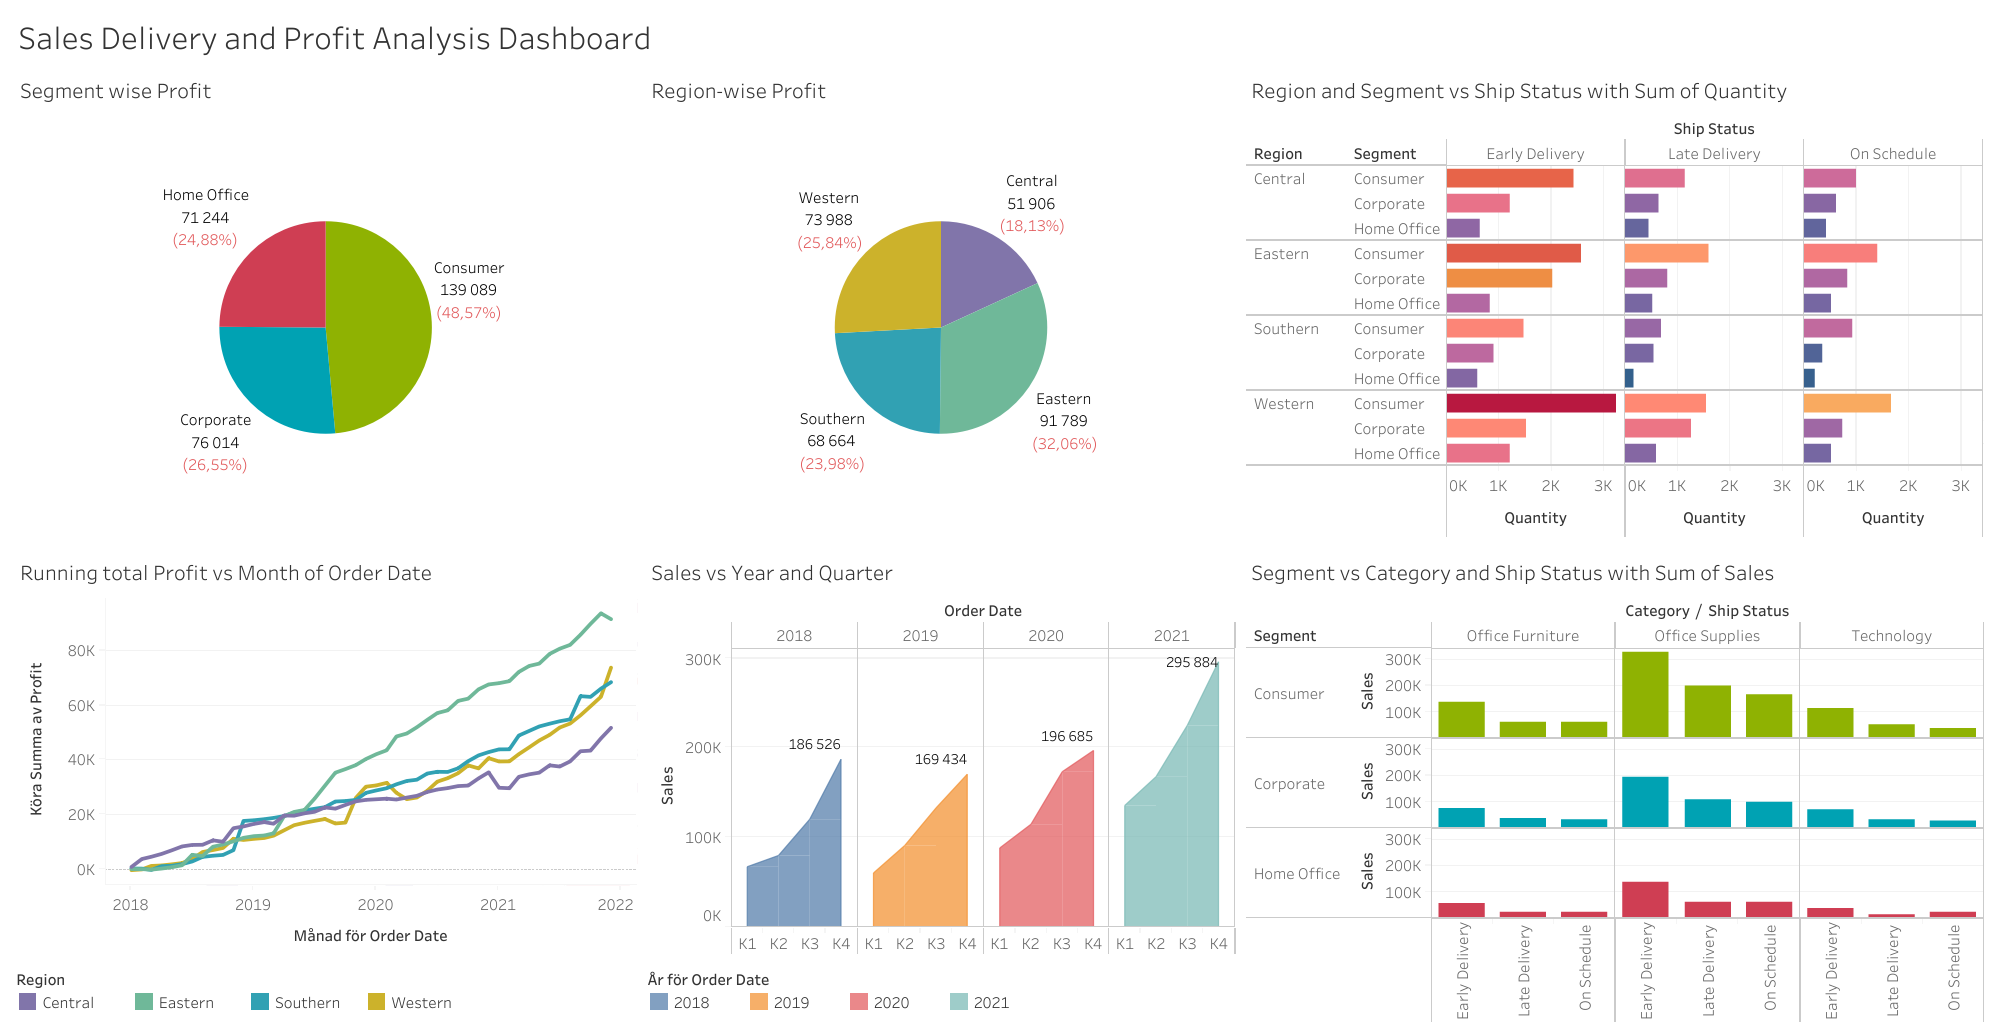

The dashboard page shown, as its layout file describes it:
{"tool":"tableau","page":{"name":"Dashboard 2","canvas":[1600,830],"ordinal":0},"visuals":[{"type":"title","box":[8,8,1584,50]},{"type":"worksheet","title":"Segment wise profit","mark":"Pie","box":[8,58,505,382]},{"type":"worksheet","title":"Regional Profit","mark":"Pie","box":[513,58,480,382]},{"type":"worksheet","title":"Region, segment, ss, quantity","mark":"Automatic","rows":["Region","Segment"],"cols":["Ship Status","Quantity"],"box":[993,58,599,382]},{"type":"worksheet","title":"Running total proft vs order date","mark":"Automatic","rows":["Profit"],"cols":["Order Date"],"box":[8,440,505,329]},{"type":"worksheet","title":"Sales vs year and quarter","mark":"Area","rows":["Sales"],"cols":["Order Date","Order Date"],"box":[513,440,480,329]},{"type":"worksheet","title":"Segment vs Category and Ship Status with Sum of Sales","mark":"Automatic","rows":["Segment","Sales"],"cols":["Category","Ship Status"],"box":[993,440,599,382]},{"type":"legend","title":"Regional Profit","param":"[federated.001yvtp1p2xo2l1d1zpsw07g0l7q].[none:Region:nk]","box":[8,769,505,53]},{"type":"legend","title":"Sales vs year and quarter","param":"[federated.001yvtp1p2xo2l1d1zpsw07g0l7q].[yr:Order Date:ok]","box":[513,769,480,53]}]}

Visuals, with their boxes in screenshot pixels (x1, y1, x2, y2), scaled from the page's 1600x830 canvas onto the 1999x1036 screenshot:
title: x1=10 y1=10 x2=1989 y2=72
"Segment wise profit" worksheet (Pie marks): x1=10 y1=72 x2=641 y2=549
"Regional Profit" worksheet (Pie marks): x1=641 y1=72 x2=1241 y2=549
"Region, segment, ss, quantity" worksheet: x1=1241 y1=72 x2=1989 y2=549
"Running total proft vs order date" worksheet: x1=10 y1=549 x2=641 y2=960
"Sales vs year and quarter" worksheet (Area marks): x1=641 y1=549 x2=1241 y2=960
"Segment vs Category and Ship Status with Sum of Sales" worksheet: x1=1241 y1=549 x2=1989 y2=1026
"Regional Profit" legend: x1=10 y1=960 x2=641 y2=1026
"Sales vs year and quarter" legend: x1=641 y1=960 x2=1241 y2=1026
